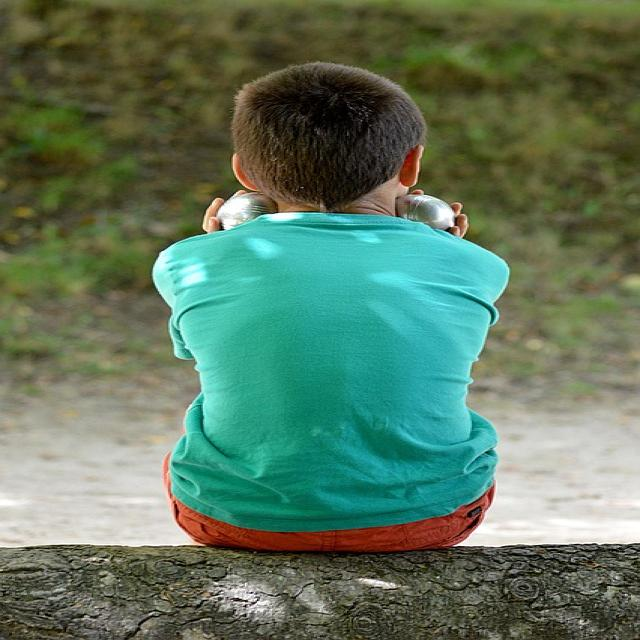petanque: (213, 192, 287, 236), (389, 189, 461, 234)
